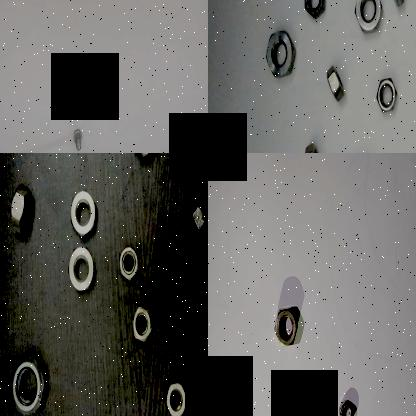Bolts: (71, 128, 87, 152)
NUTS: (9, 351, 48, 416), (262, 22, 300, 84), (3, 180, 36, 238), (66, 240, 96, 296), (69, 184, 98, 238), (372, 69, 398, 117), (273, 304, 300, 350), (114, 245, 144, 286), (163, 373, 191, 416), (184, 197, 208, 247), (322, 62, 348, 108), (353, 0, 383, 37), (130, 304, 154, 345), (298, 134, 328, 153), (301, 0, 327, 21), (336, 396, 354, 416)
